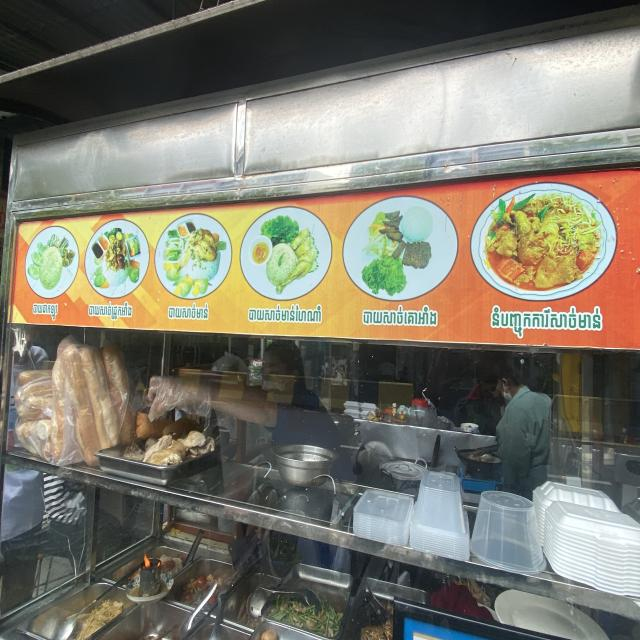Yolov11kh: (487, 301, 607, 340), (359, 301, 444, 329), (246, 300, 327, 329), (85, 298, 139, 323), (165, 300, 212, 324), (29, 299, 62, 321)
